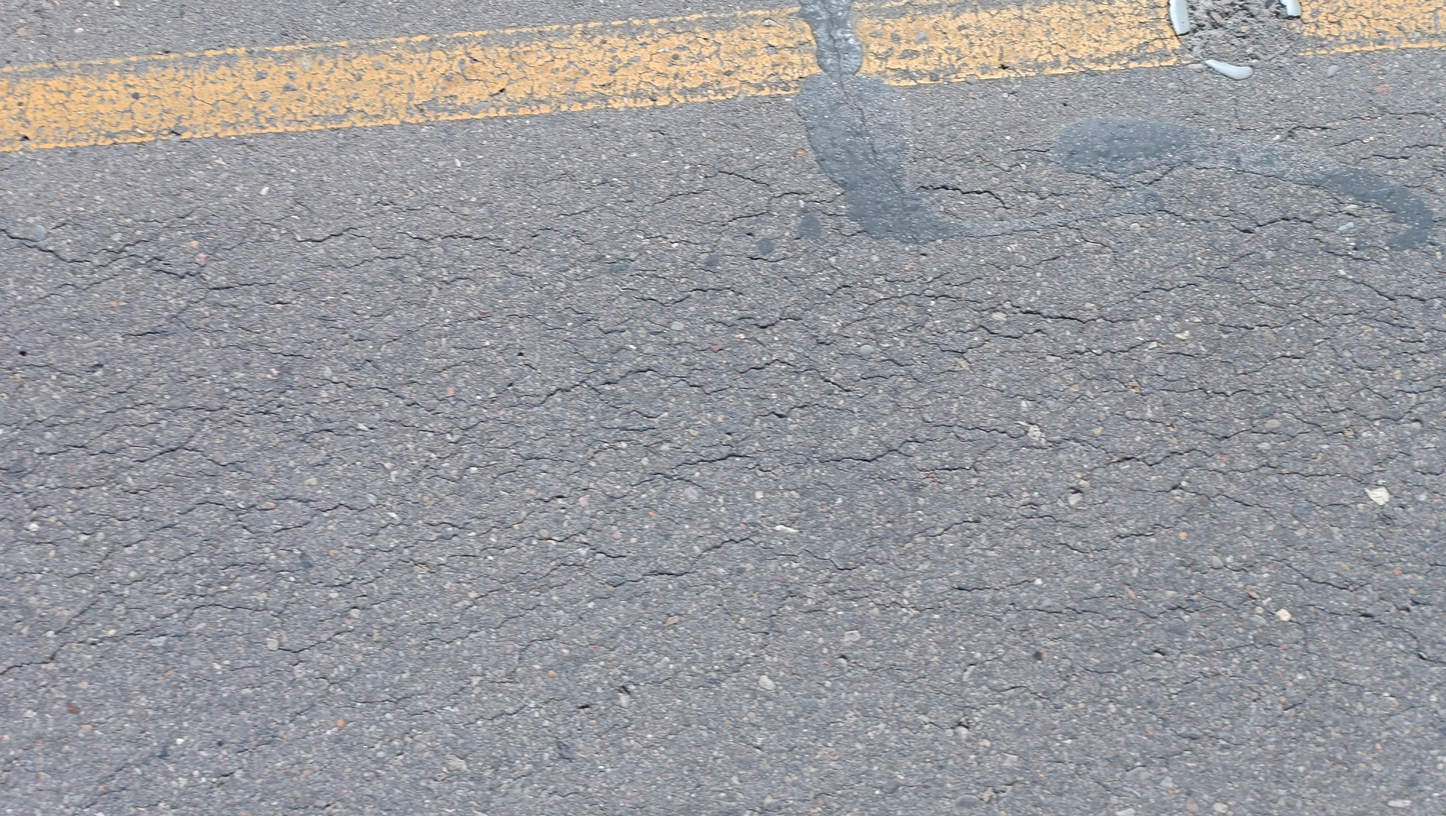PIEL DE COCODRILO: (0, 98, 1446, 816)
